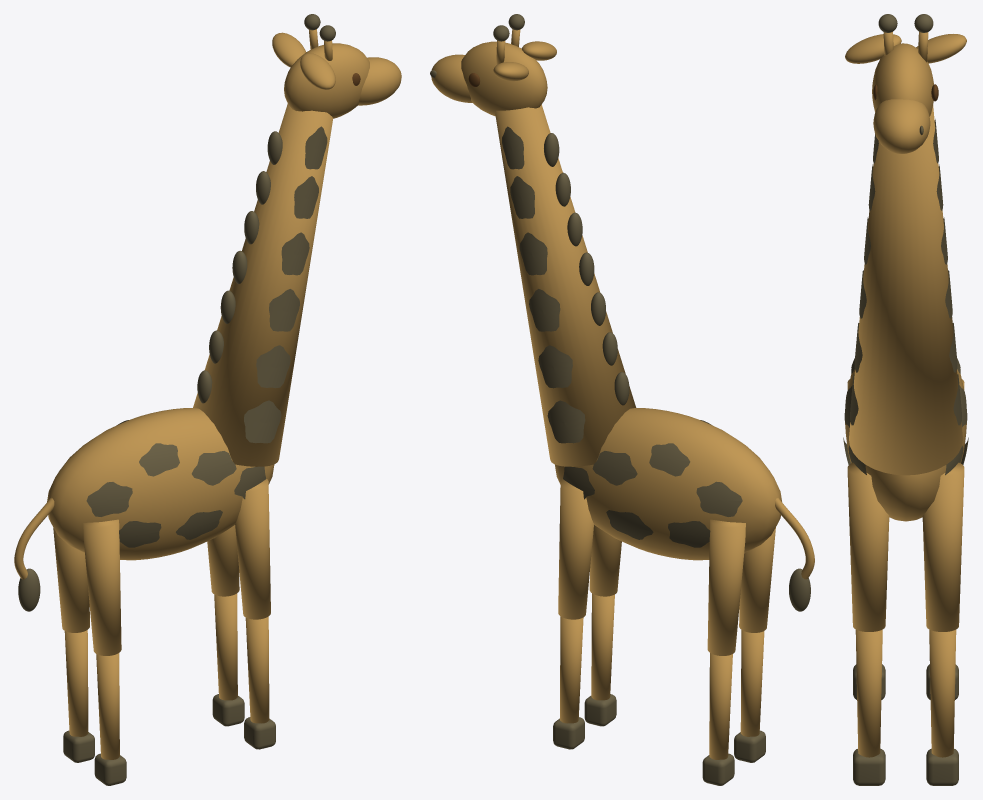
Rendered from 05_giraffe.glb.
The picture shows the model from 3 angles, left to right: view 1: azimuth 30°, elevation 25°; view 2: azimuth 150°, elevation 25°; view 3: azimuth 270°, elevation 25°; orthographic projection. The views are drawn at different scales.
Parts seen in each view (by area): view 1: Long neck, Body, Upper leg, Upper leg.002, Head, Upper leg.001, Lower leg.003, Lower leg, Lower leg.002, Lower leg.001, Upper leg.003, Muzzle (+19 smaller); view 2: Long neck, Body, Upper leg.001, Upper leg.003, Head, Upper leg, Lower leg.002, Lower leg.001, Lower leg, Lower leg.003, Upper leg.002, Muzzle (+17 smaller); view 3: Long neck, Upper leg.002, Upper leg.003, Lower leg.002, Lower leg.003, Body, Head, Muzzle, Hoof.002, Hoof.003, Ear, Ear.001 (+7 smaller).
Boxes of the visible parts, x1=… form: Long neck: x1=193, y1=103, x2=332, y2=466; Body: x1=47, y1=408, x2=274, y2=560; Upper leg: x1=83, y1=519, x2=121, y2=655; Upper leg.002: x1=235, y1=478, x2=270, y2=619; Head: x1=284, y1=43, x2=369, y2=118; Upper leg.001: x1=53, y1=528, x2=89, y2=632; Lower leg.003: x1=214, y1=593, x2=237, y2=700; Lower leg: x1=96, y1=653, x2=119, y2=759; Lower leg.002: x1=245, y1=616, x2=269, y2=723; Lower leg.001: x1=64, y1=630, x2=88, y2=736; Upper leg.003: x1=207, y1=525, x2=239, y2=596; Muzzle: x1=358, y1=57, x2=401, y2=105; Long neck: x1=495, y1=104, x2=636, y2=466; Body: x1=555, y1=408, x2=781, y2=560; Upper leg.001: x1=707, y1=519, x2=745, y2=655; Upper leg.003: x1=558, y1=478, x2=593, y2=619; Head: x1=461, y1=41, x2=547, y2=116; Upper leg: x1=739, y1=527, x2=775, y2=632; Lower leg.002: x1=591, y1=593, x2=614, y2=700; Lower leg.001: x1=709, y1=653, x2=732, y2=759; Lower leg: x1=740, y1=630, x2=764, y2=736; Lower leg.003: x1=559, y1=616, x2=583, y2=723; Upper leg.002: x1=589, y1=525, x2=621, y2=596; Muzzle: x1=431, y1=54, x2=472, y2=102; Long neck: x1=849, y1=105, x2=962, y2=475; Upper leg.002: x1=847, y1=462, x2=889, y2=631; Upper leg.003: x1=922, y1=462, x2=964, y2=631; Lower leg.002: x1=855, y1=629, x2=882, y2=757; Lower leg.003: x1=929, y1=629, x2=956, y2=757; Body: x1=845, y1=369, x2=966, y2=521; Head: x1=872, y1=43, x2=933, y2=116; Muzzle: x1=873, y1=99, x2=930, y2=153; Hoof.002: x1=853, y1=748, x2=885, y2=785; Hoof.003: x1=926, y1=748, x2=958, y2=785; Ear: x1=845, y1=34, x2=901, y2=63; Ear.001: x1=916, y1=34, x2=966, y2=63.
Size of the model in its own units: 3.79 by 6.57 by 0.9207.
